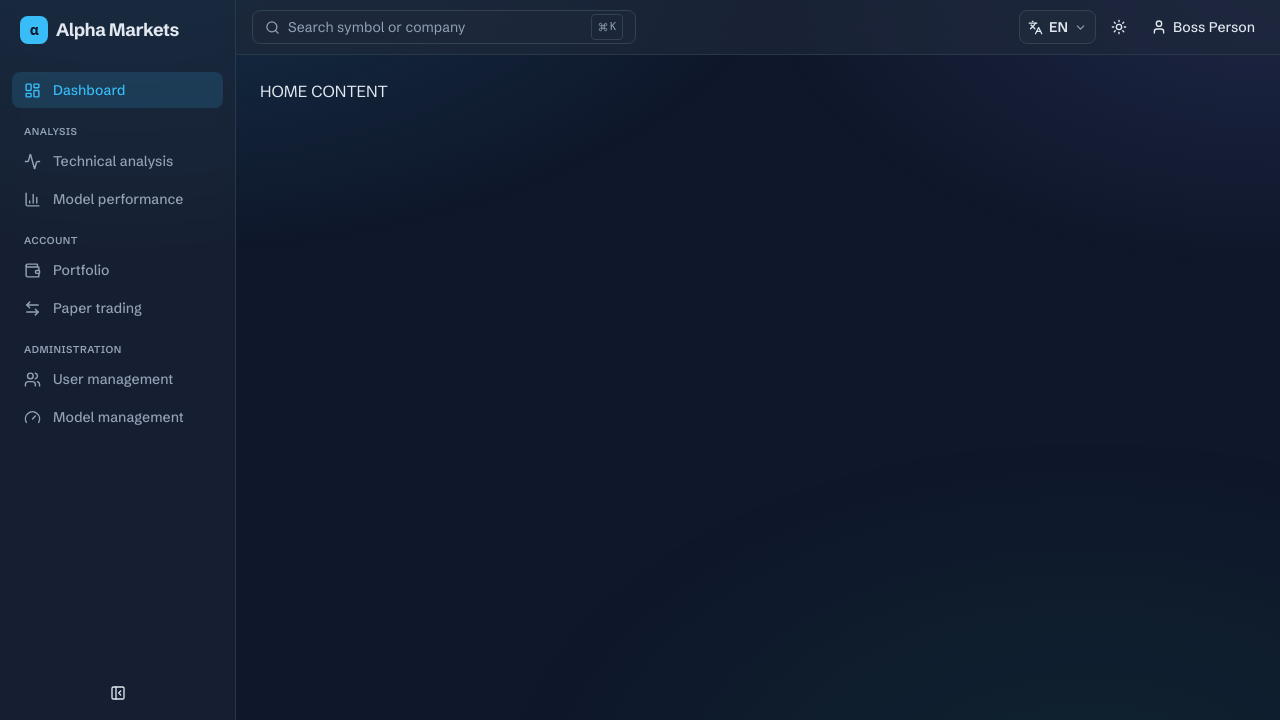
Test: MainLayout: role-based display › the account menu shows the display name (or username) and the role
This screenshot has width=1280, height=720.
Click the button with aria-label "Account menu" at (1203, 27), box [1142,10,1264,44]
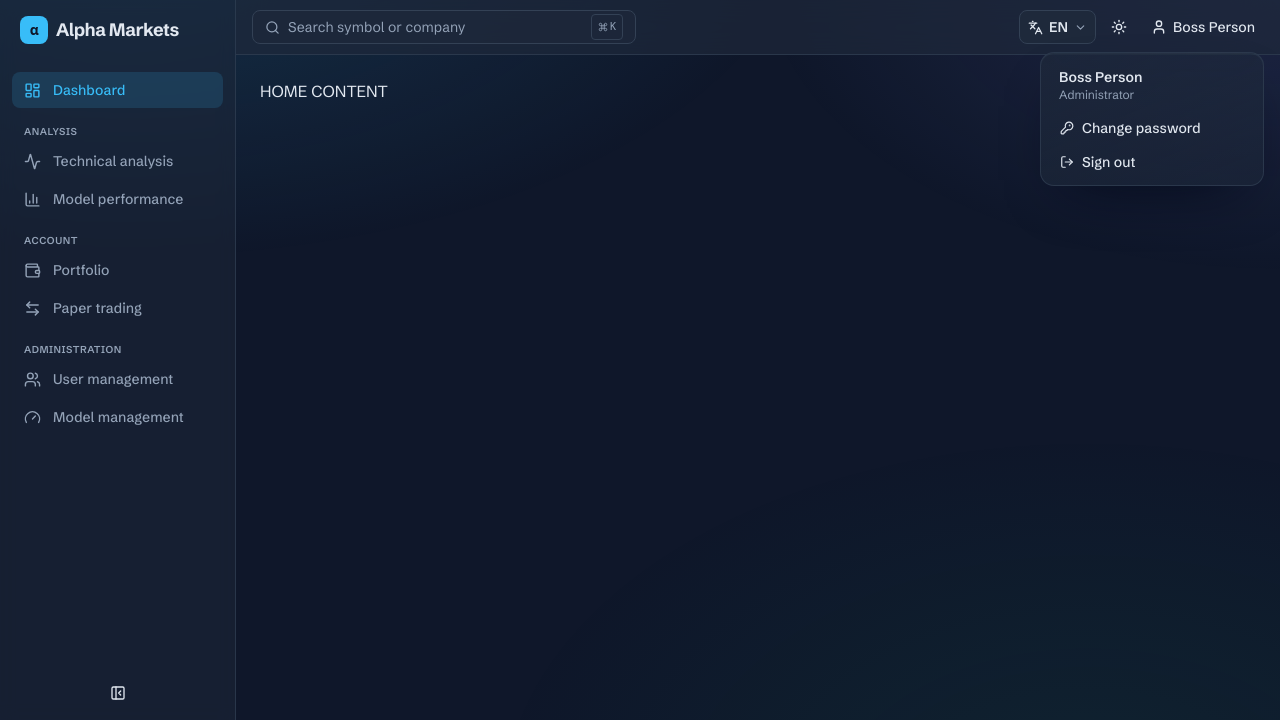
Now the menu shows "Boss Person", box [1059,68,1142,86]
Now the menu shows "Administrator", box [1059,87,1134,102]
